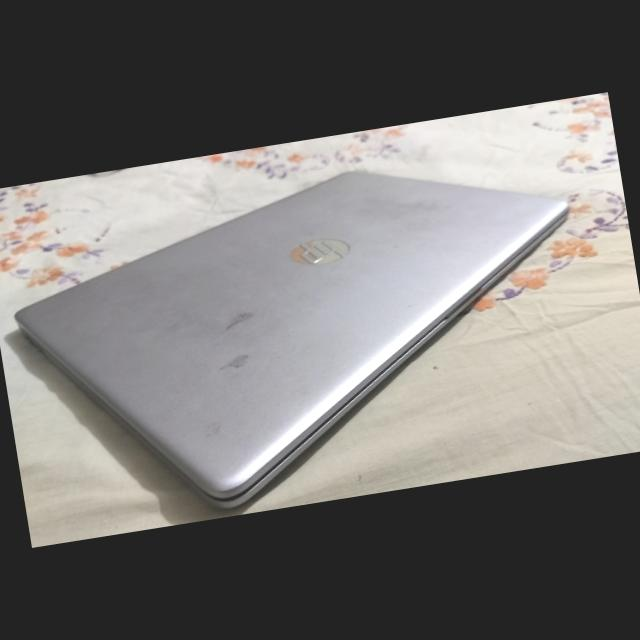laptop: (16, 122, 634, 532)
